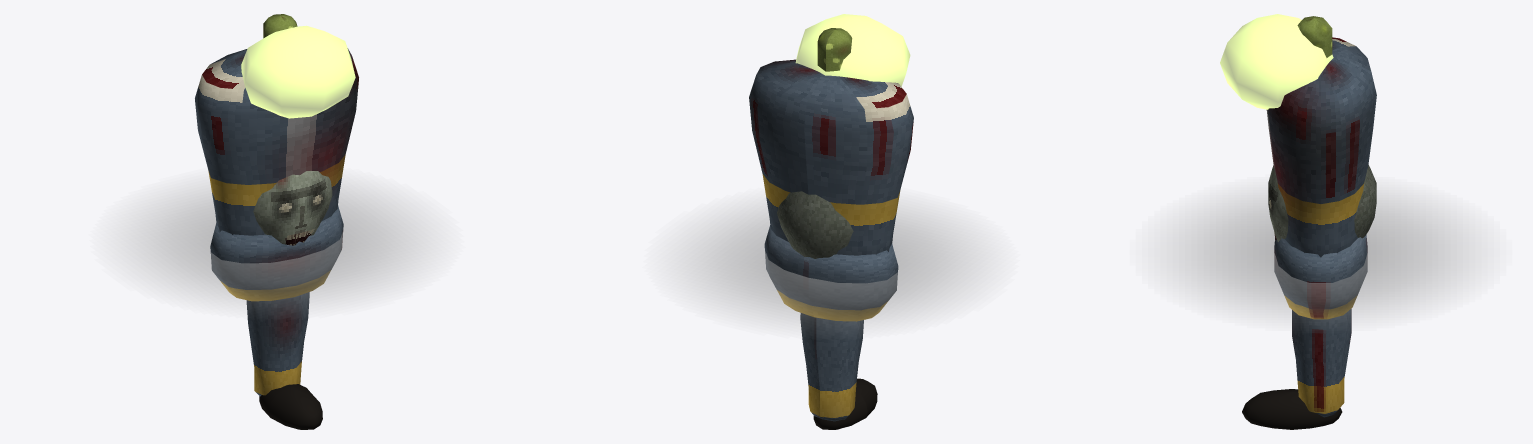
The picture shows the model from 3 angles, left to right: view 1: azimuth 30°, elevation 25°; view 2: azimuth 150°, elevation 25°; view 3: azimuth 270°, elevation 25°; orthographic projection. The views are drawn at different scales.
Visible parts, largest first — view 1: root__x__11, spine__x__1, spine__x__3, core__x__0, legL1__x__12, head__h__4, legL2__x__14, spine__x__2; view 2: root__x__11, spine__x__1, core__x__0, legL1__x__12, spine__x__3, head__h__4, spine__x__2, legL2__x__14; view 3: root__x__11, spine__x__1, spine__x__3, core__x__0, legL1__x__12, legL2__x__14, head__h__4, spine__x__2.
Boxes of the visible parts, x1,y1,x2,y2 form: root__x__11: [116, 179, 437, 308]; spine__x__1: [195, 48, 358, 235]; spine__x__3: [241, 25, 355, 118]; core__x__0: [210, 205, 343, 301]; legL1__x__12: [246, 292, 309, 396]; head__h__4: [253, 171, 332, 245]; legL2__x__14: [259, 384, 322, 429]; spine__x__2: [263, 14, 297, 38]; root__x__11: [670, 198, 992, 329]; spine__x__1: [749, 59, 913, 255]; core__x__0: [764, 225, 898, 321]; legL1__x__12: [800, 313, 863, 421]; spine__x__3: [795, 14, 910, 86]; head__h__4: [777, 191, 853, 258]; spine__x__2: [817, 28, 852, 71]; legL2__x__14: [813, 378, 877, 429]; root__x__11: [1155, 187, 1486, 322]; spine__x__1: [1266, 37, 1376, 257]; spine__x__3: [1220, 14, 1333, 109]; core__x__0: [1274, 234, 1367, 319]; legL1__x__12: [1292, 308, 1351, 417]; legL2__x__14: [1242, 389, 1342, 429]; head__h__4: [1268, 164, 1376, 241]; spine__x__2: [1297, 16, 1332, 57].
Bounding box in the file's own units: 1.1 × 1.24 × 1.1.
Materials: 7 (5 with a texture image).
